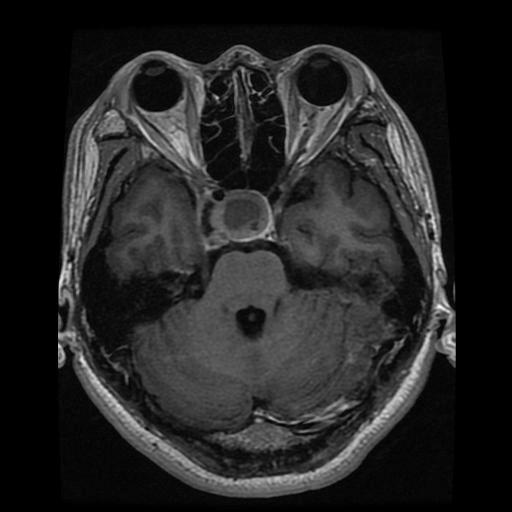Tumour-Pituitary: (203, 184, 288, 253)
